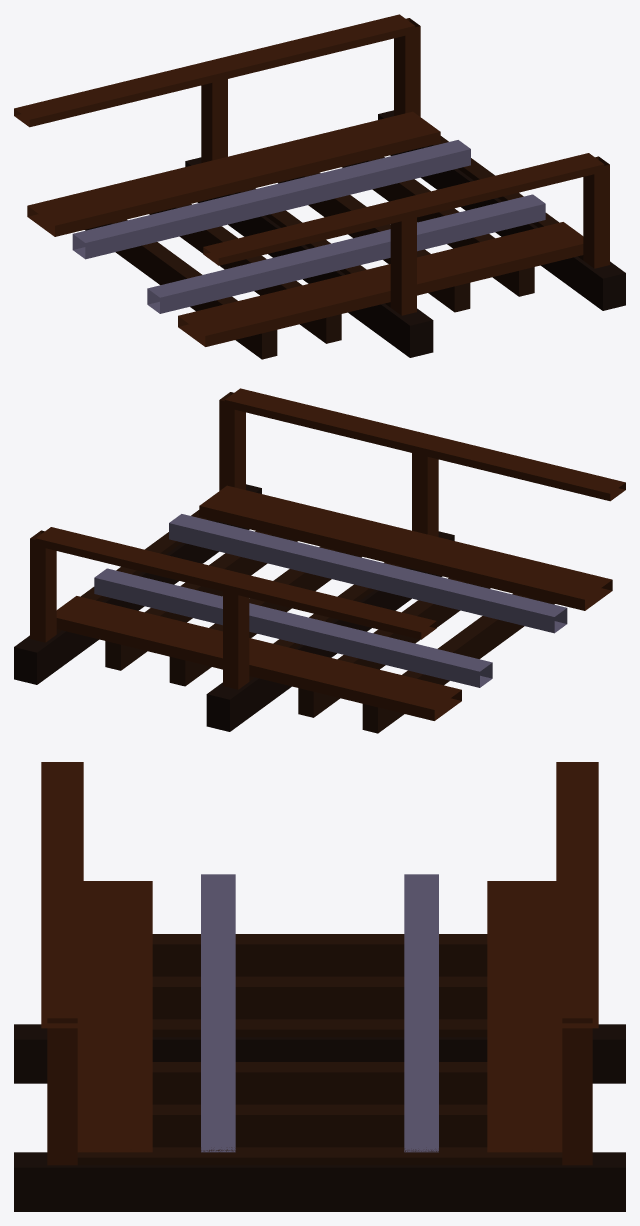
Rendered from track_wooden_MOCKUP.fbx.
3 renders of one model, top to bottom at view 1: azimuth 30°, elevation 25°; view 2: azimuth 150°, elevation 25°; view 3: azimuth 270°, elevation 25°, orthographic. The views are drawn at different scales.
Parts seen in each view (by area): view 1: Straight_Clone_; view 2: Straight_Clone_; view 3: Straight_Clone_.
Part boxes in pixels (left/top/right/bottom): Straight_Clone_: left=14, top=14, right=625, bottom=359; Straight_Clone_: left=14, top=388, right=625, bottom=733; Straight_Clone_: left=14, top=762, right=625, bottom=1211.
Bounding box in the file's own units: 103 × 33.86 × 101.
